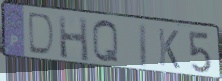5: (187, 29, 214, 75)
D: (27, 11, 57, 59)
H: (57, 14, 91, 64)
I: (138, 22, 149, 71)
K: (157, 26, 182, 71)
Q: (90, 19, 121, 66)
